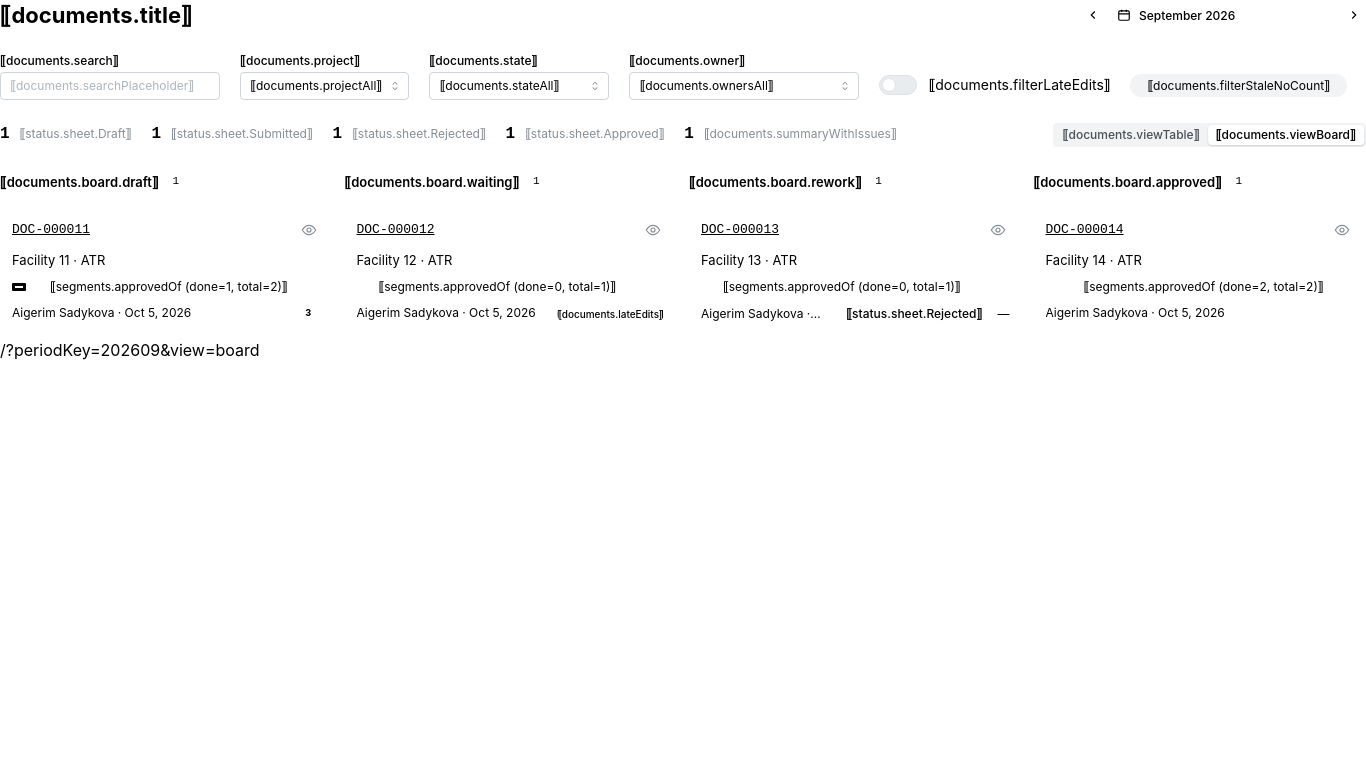
Scenario: DocumentsPage — подання Board (UI-40) › посилання картки зберігає період, «око» відкриває швидкий перегляд
Expected: the element that starts with "⟦documents.board.draft⟧" is shown, left=0, top=166, right=1365, bottom=338
Click the button named "documents.quickLook (key=DOC-000012)" at [653, 230], box left=641, top=218, right=665, bottom=242
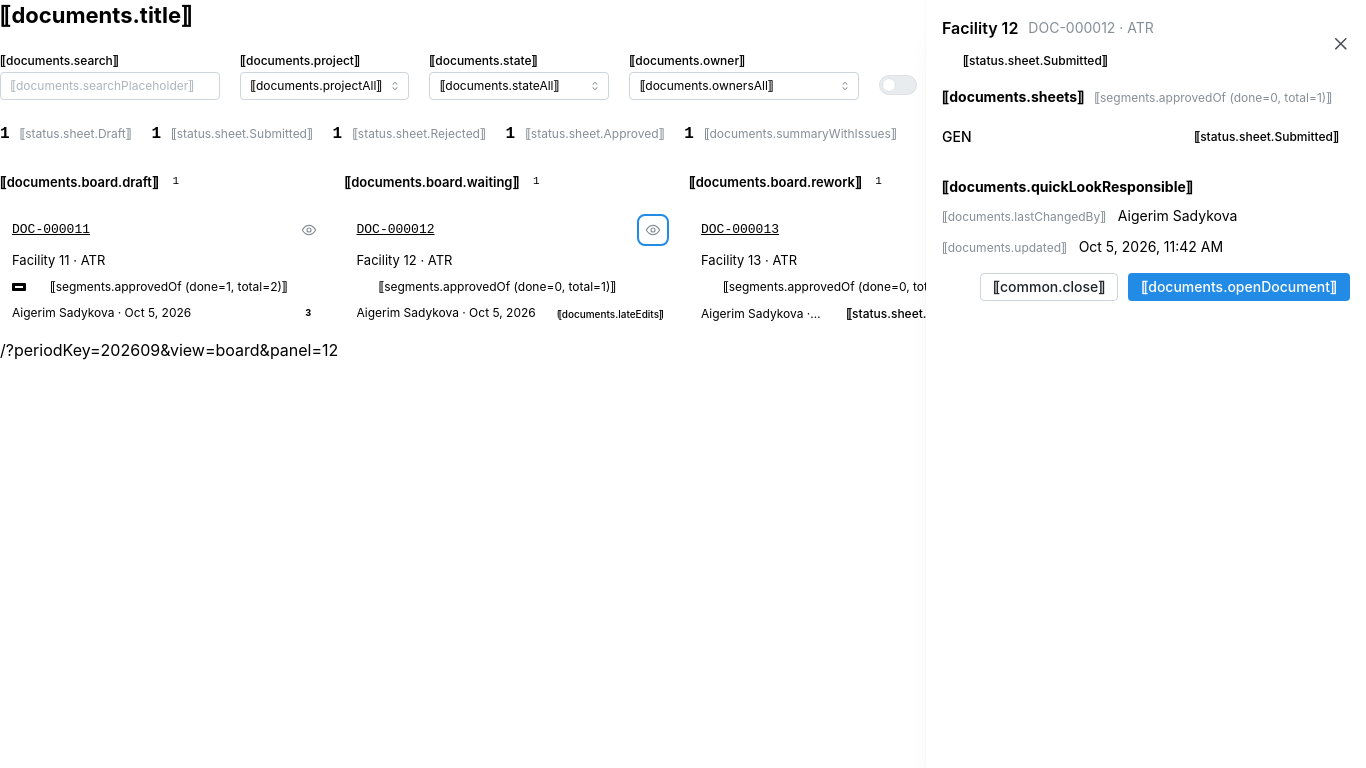
Result: the text with test id "location" shows "panel=12" at left=0, top=340, right=338, bottom=360
